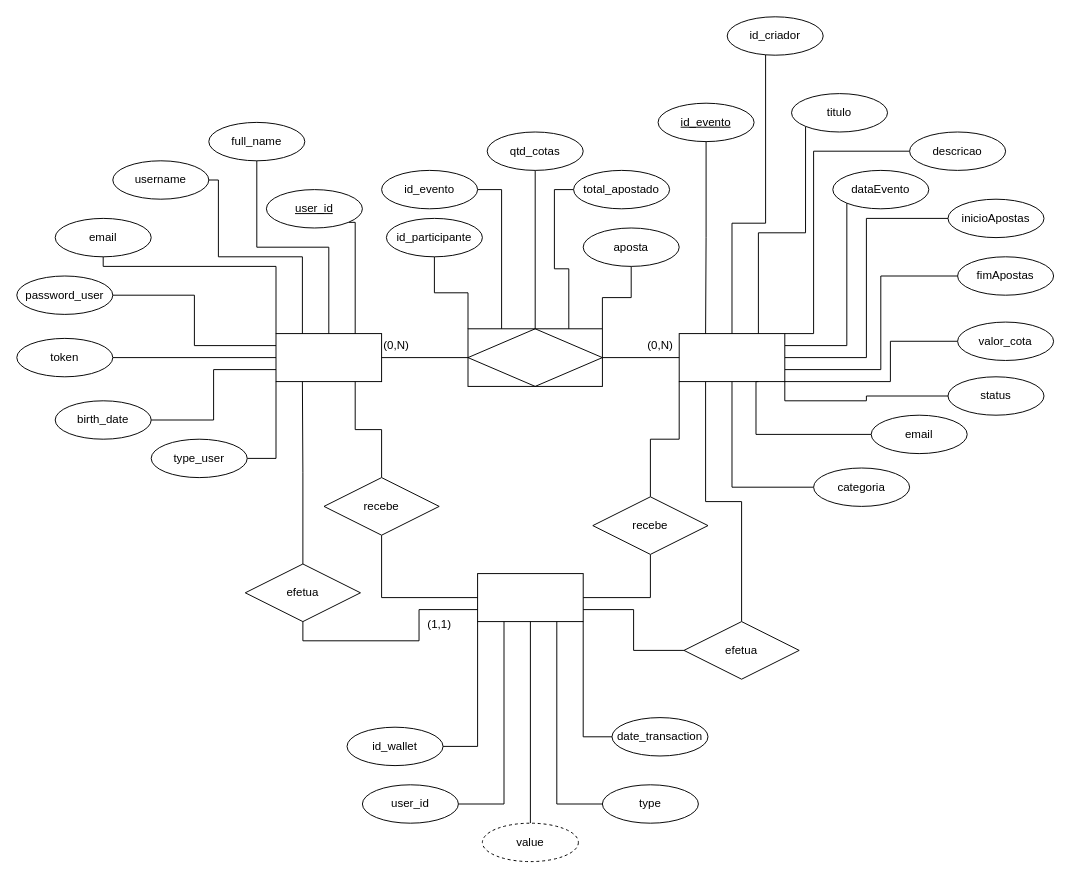
Some shapes in this 1070 by 878 pixel diagram are drawn without their labels. Each missing label, with the box of its shape:
Evento: (678, 333, 785, 382)
participa: (467, 328, 602, 386)
Transacao: (477, 573, 583, 622)
User: (275, 333, 382, 382)
